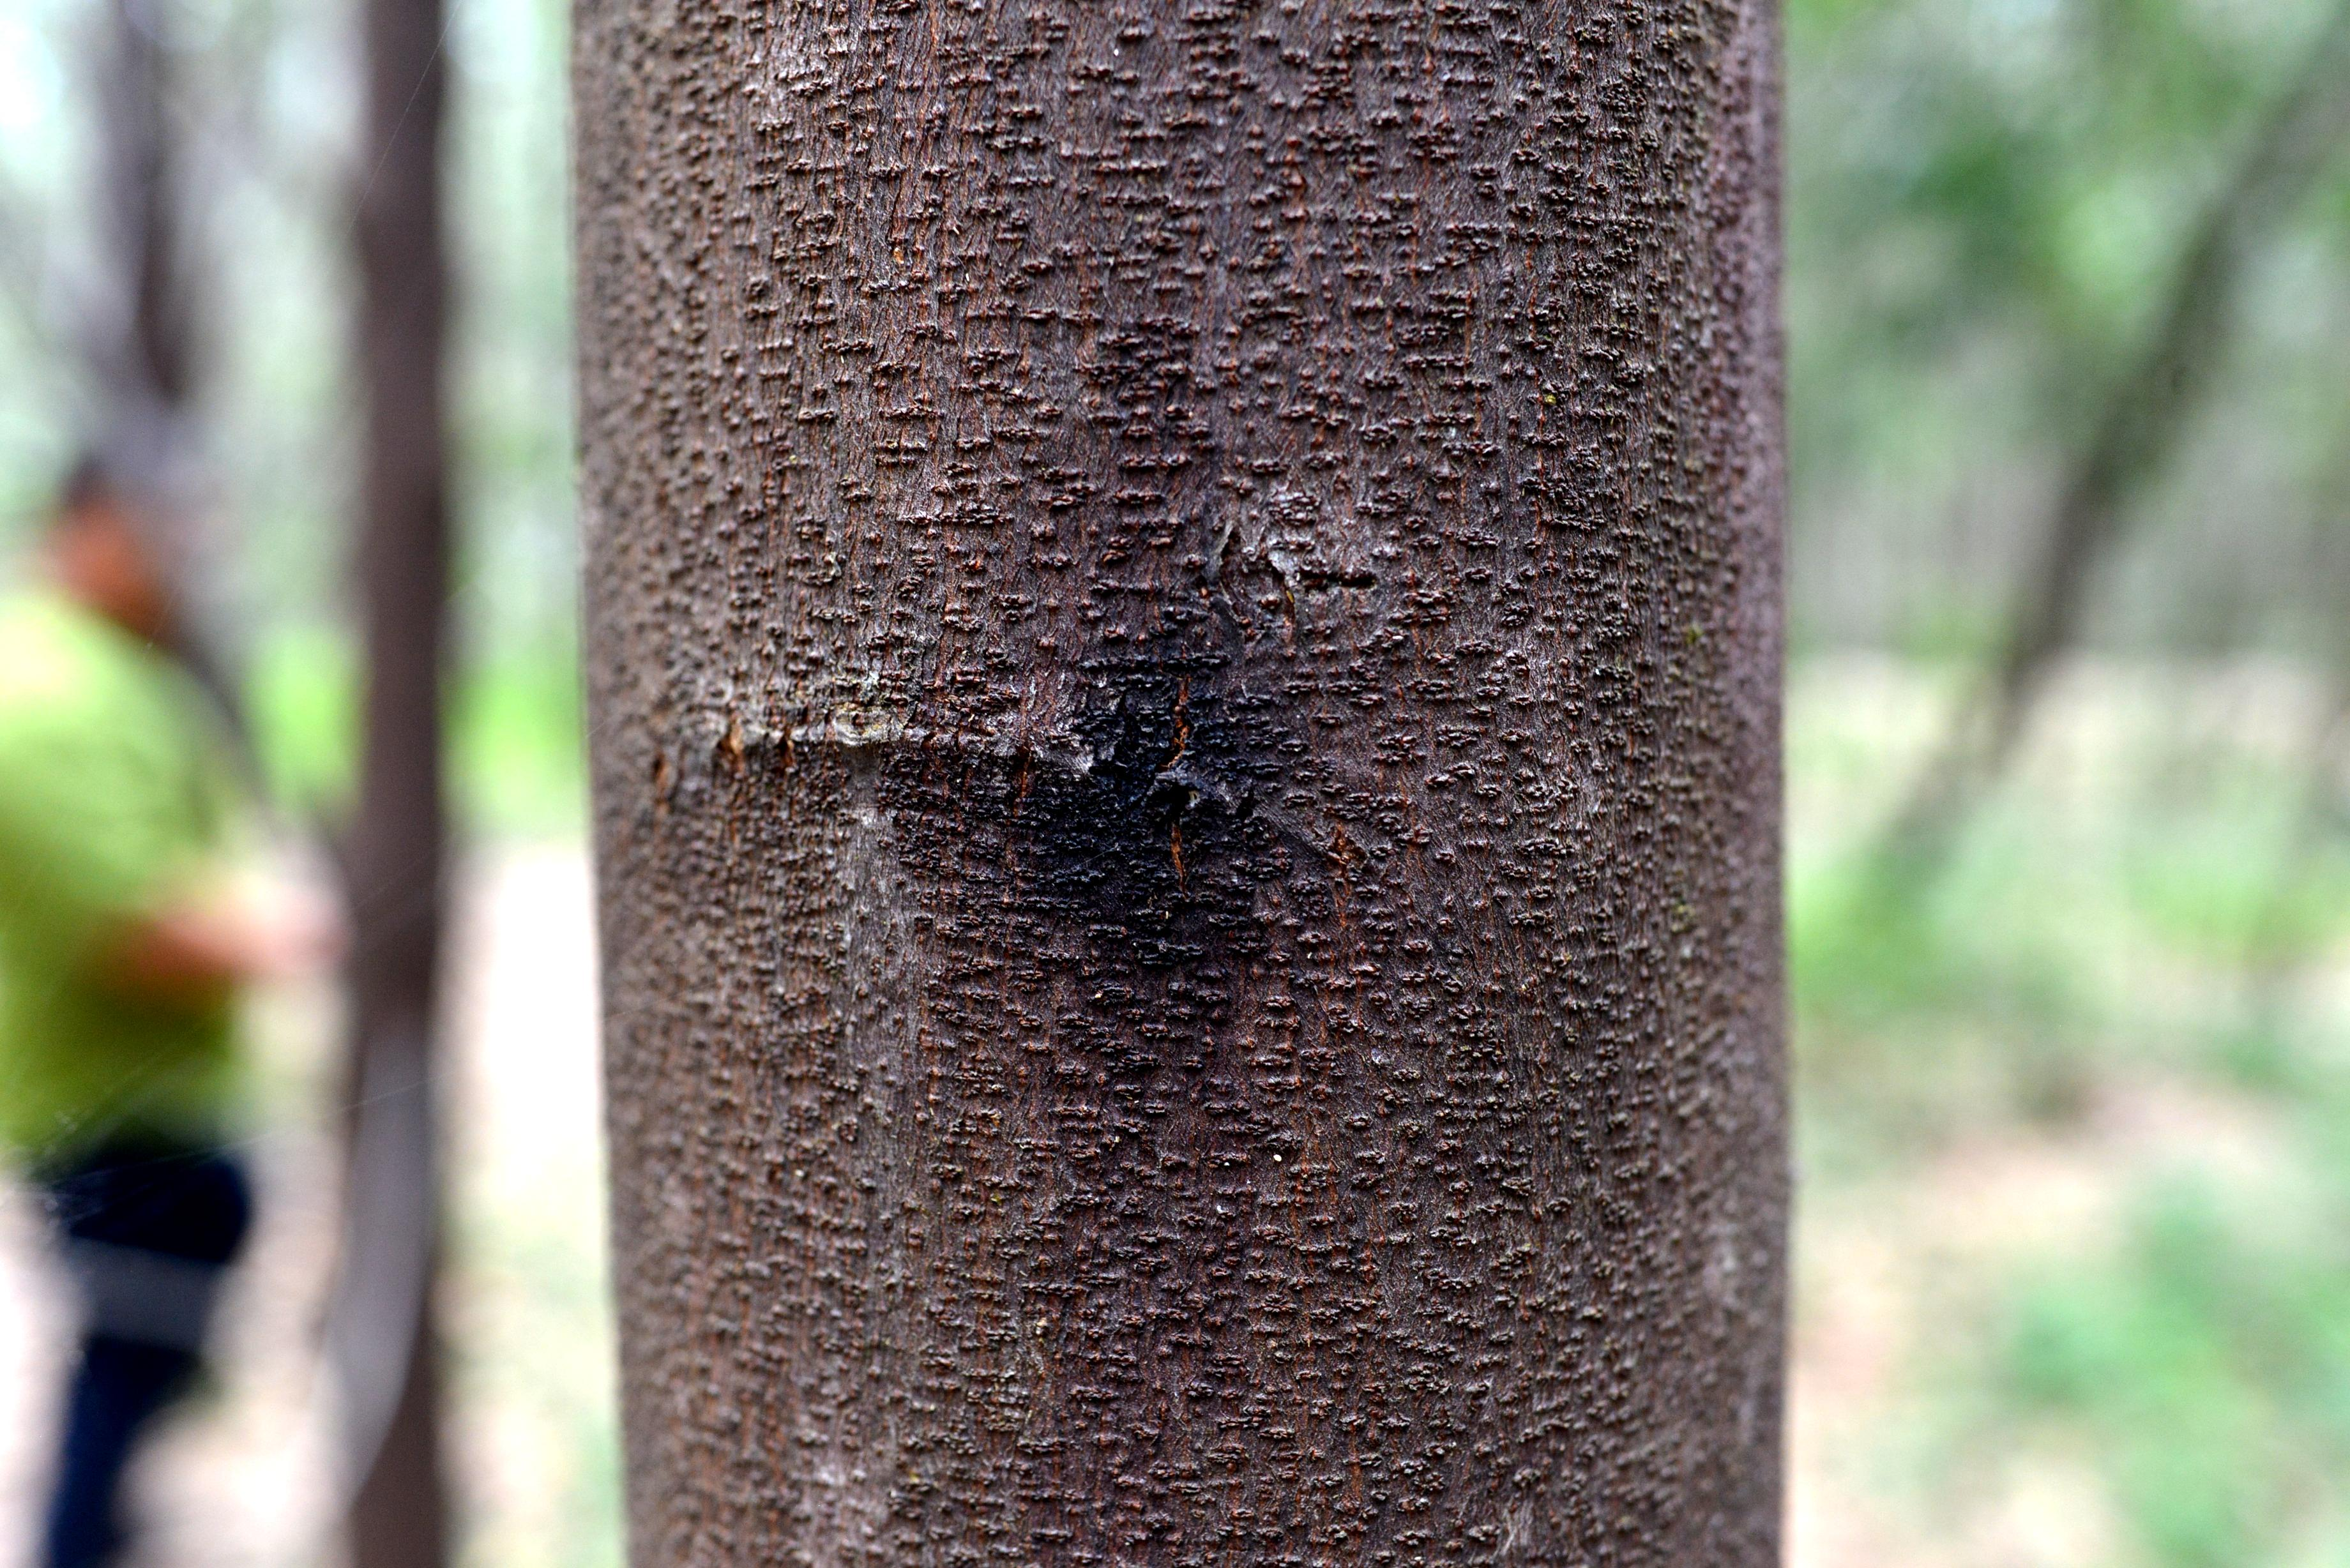Stem Borer: (901, 572, 1340, 1092)
